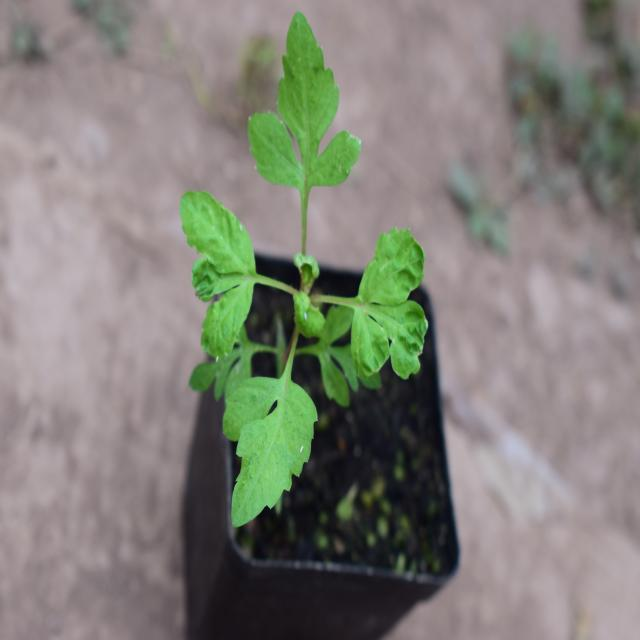Bidens pilosa: (162, 2, 428, 540)
